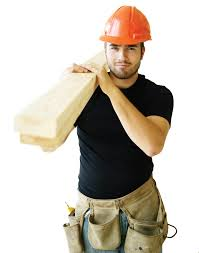Person_wearing_helmet: (96, 3, 153, 54)
